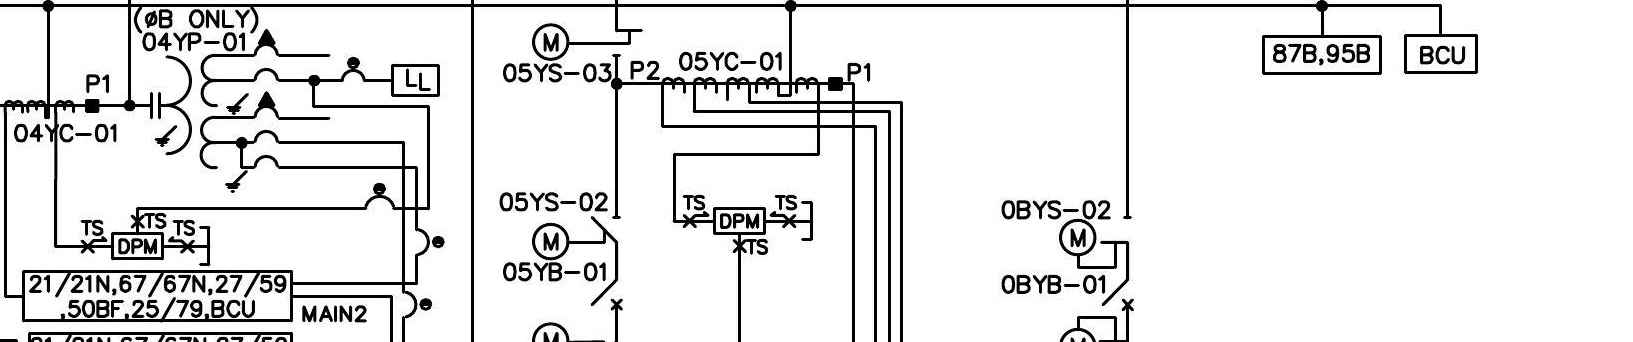115_1way_ds_w_motor: (531, 22, 644, 62), (531, 215, 622, 261), (1058, 216, 1132, 269)
115_breaker: (1102, 278, 1134, 312), (591, 278, 623, 311)
115_cvt_1p: (149, 28, 281, 193)
BCU: (1403, 33, 1479, 75)
DPM: (110, 231, 165, 261), (712, 206, 767, 236)
LL: (391, 64, 441, 98)
